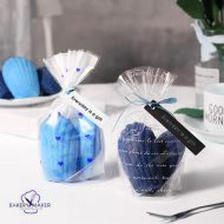snack: (107, 58, 211, 204), (30, 42, 114, 187)
